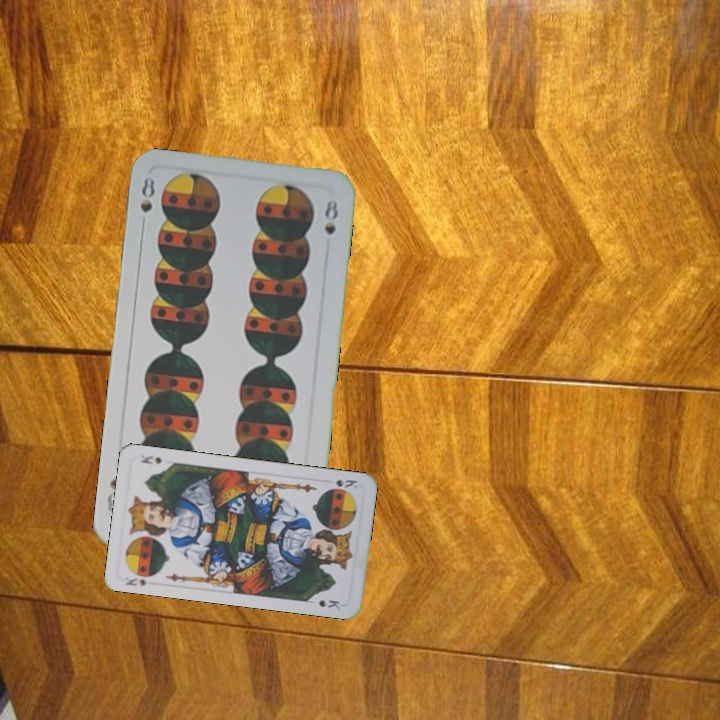S8: (136, 173, 157, 232)
SK: (332, 475, 360, 492), (121, 573, 149, 588)
